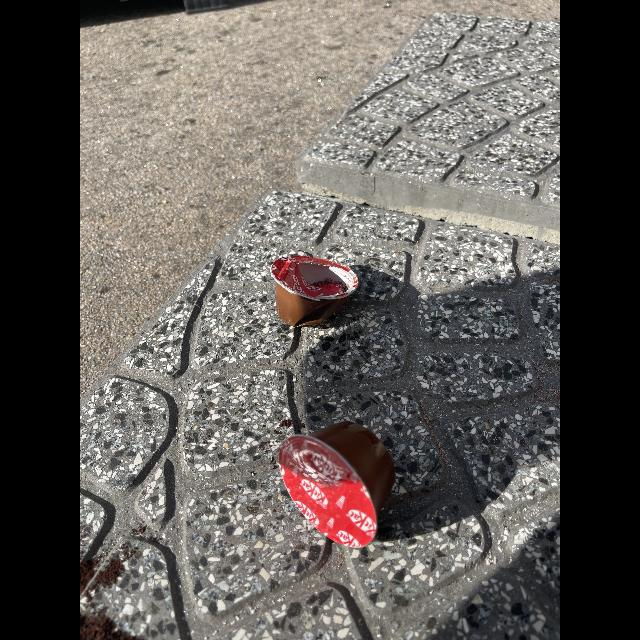damaged_capsule: (260, 245, 374, 338)
intact_capsule: (269, 410, 406, 558)
